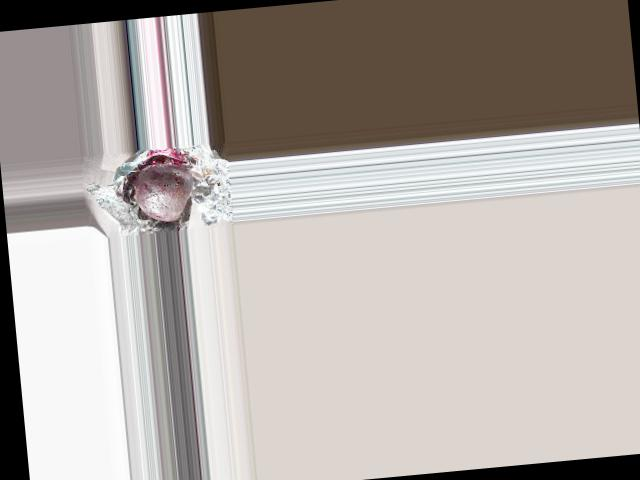beet: (131, 162, 197, 224)
